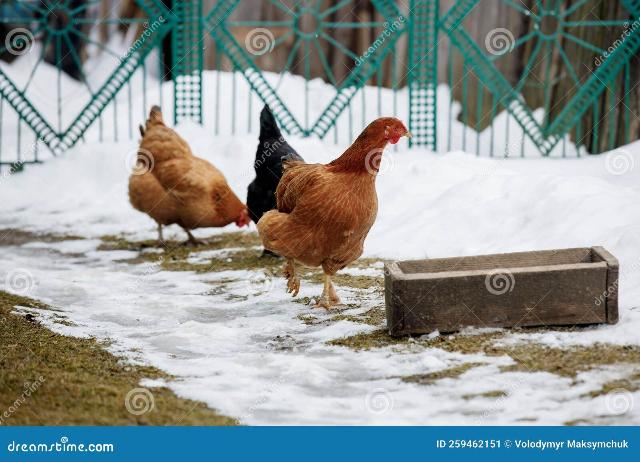Chicken: (260, 117, 411, 311), (129, 104, 251, 246), (247, 101, 305, 225)
